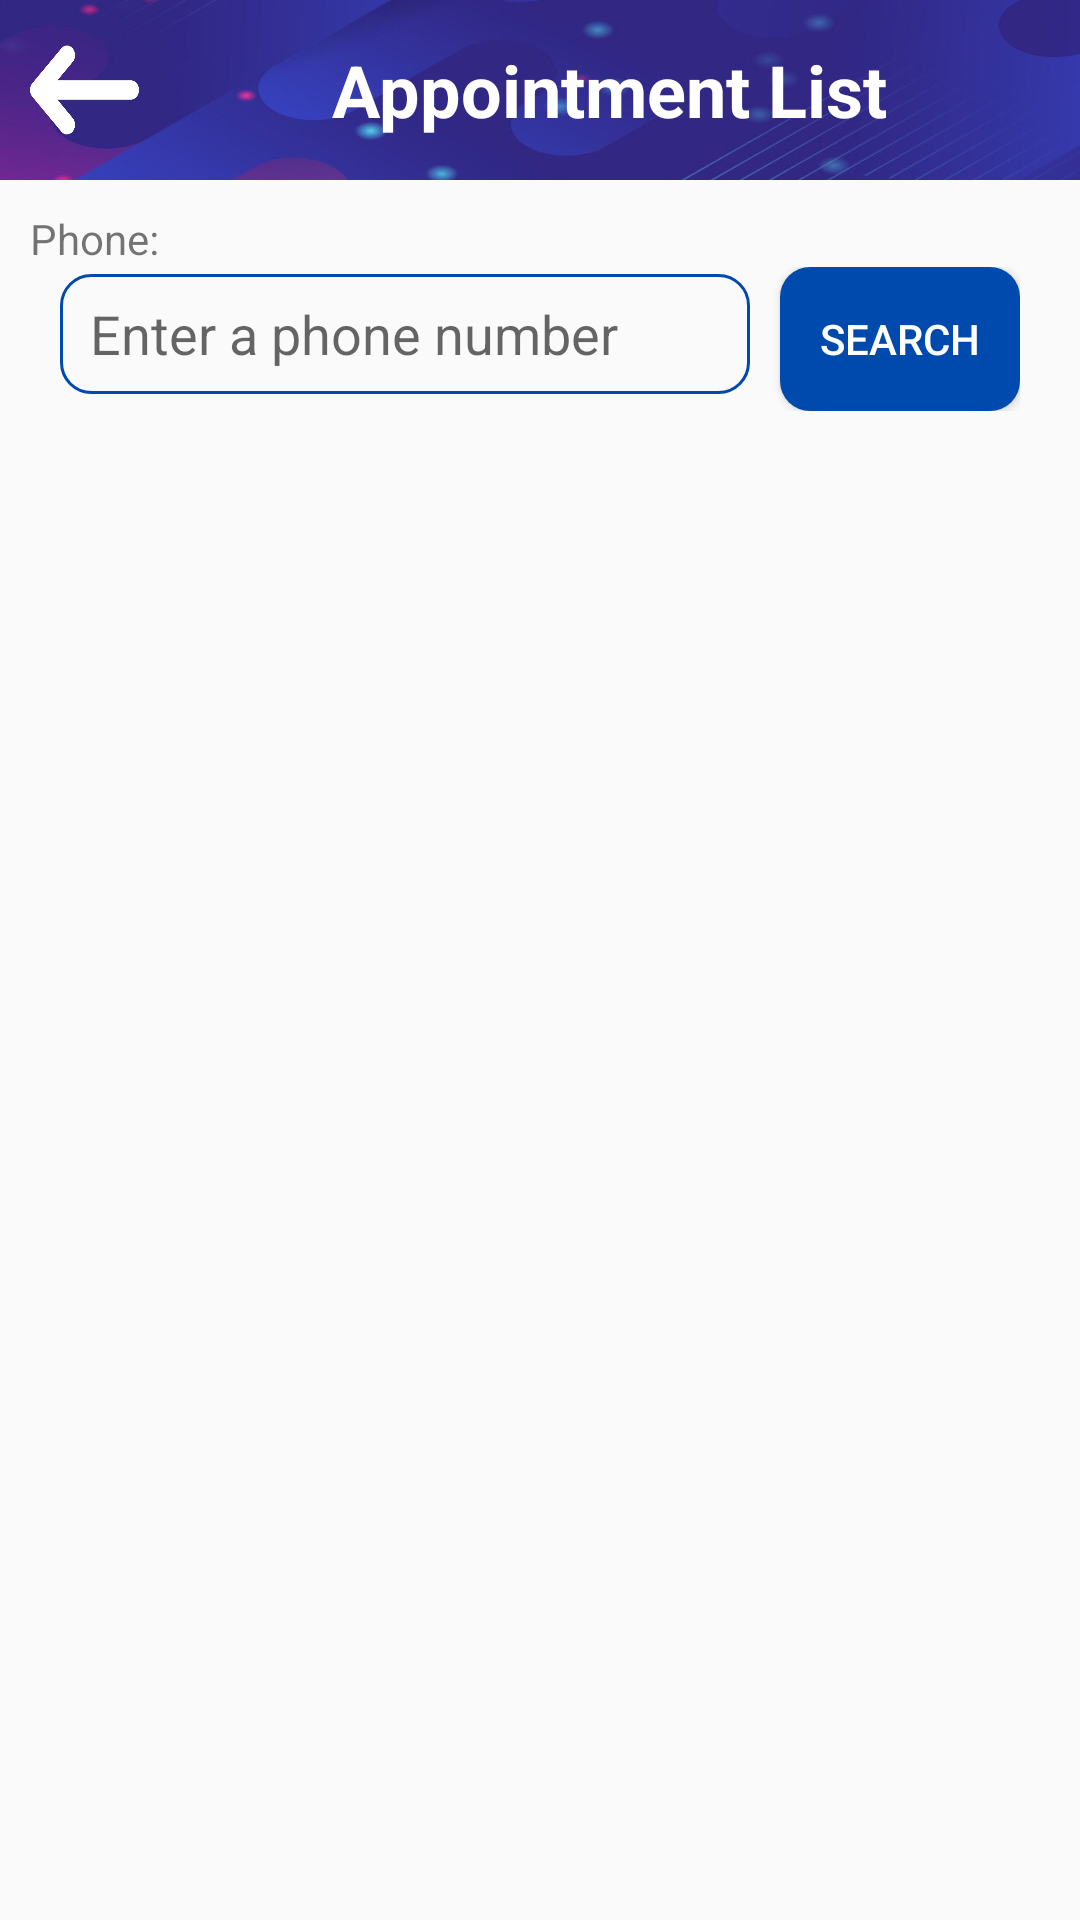

Screen size 1080 × 1920. Icon name, then its box in pixels as bbox=(x1, y1, x2, y2):
back: bbox=(30, 45, 139, 135)
